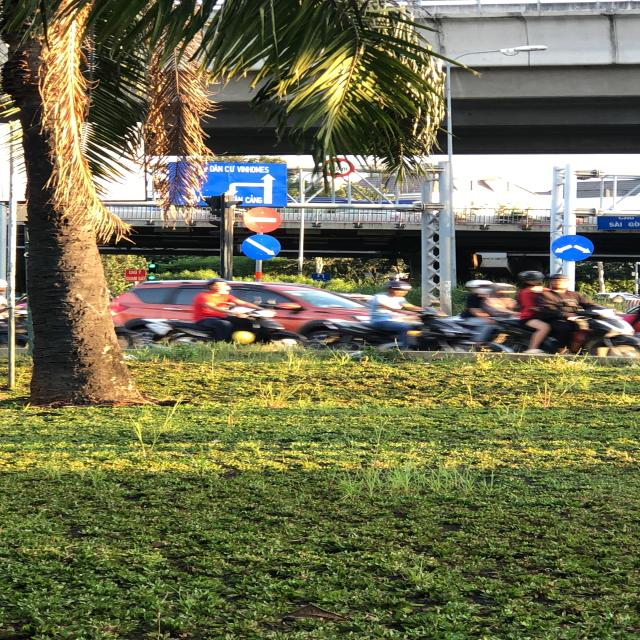Bien bao cam di nguoc chieu: (239, 204, 291, 234)
Bien bao huong phai di vong chuong ngai vat: (235, 233, 289, 264)
